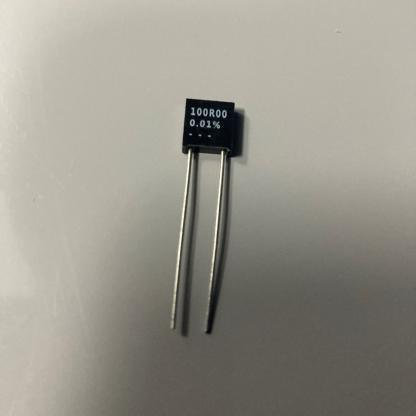SP0000007: (102, 16, 280, 382)
